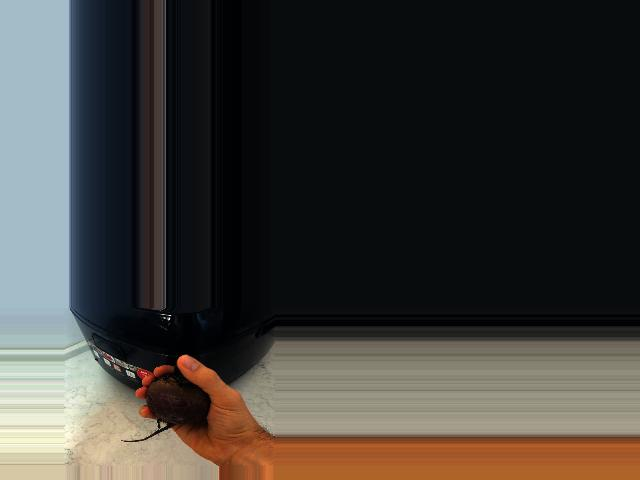beet: (120, 366, 209, 442)
